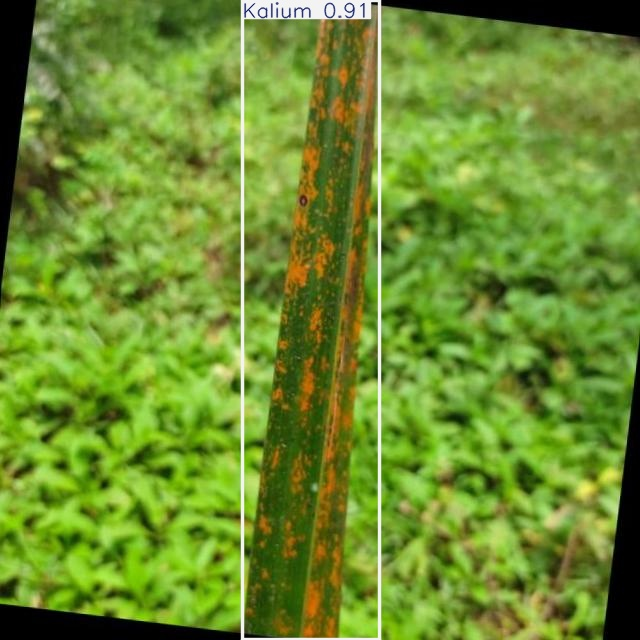Kalium: (243, 1, 380, 640)
